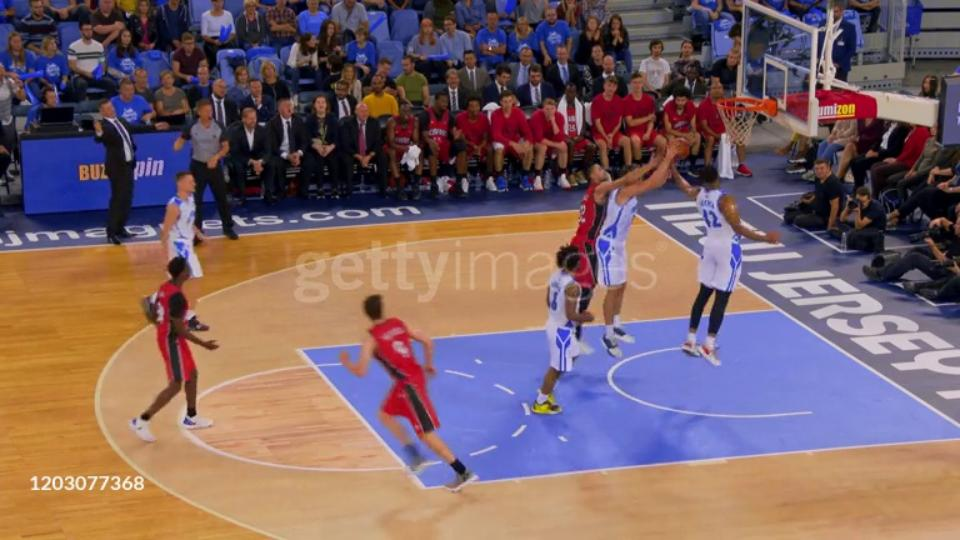hoop: (714, 95, 781, 118)
